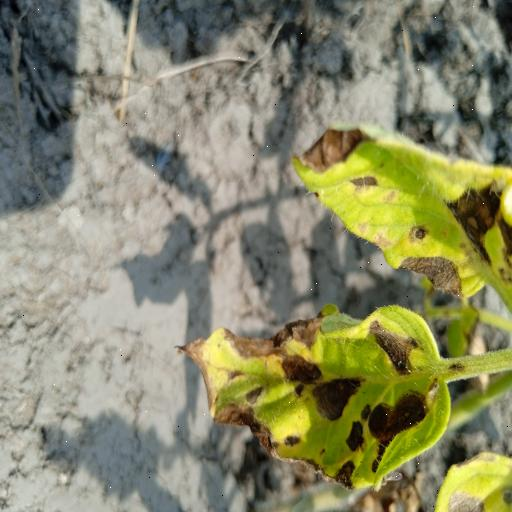Tomato_Brown_Spots: (170, 301, 456, 494), (281, 122, 512, 306)
